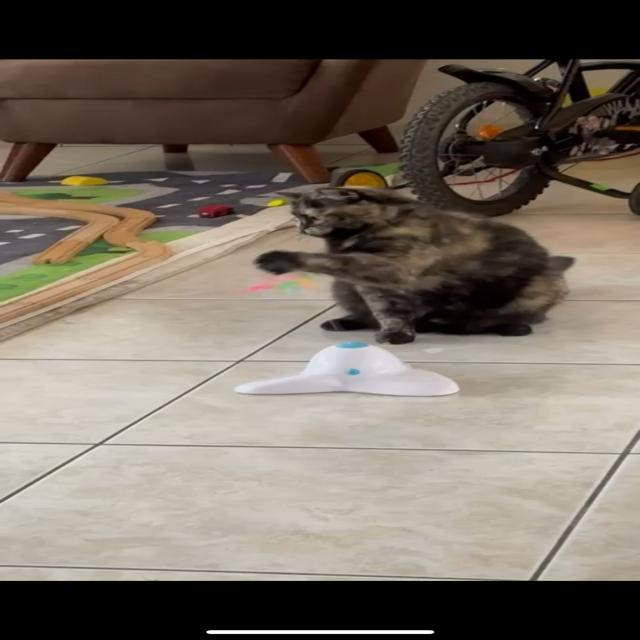authorized: (253, 184, 575, 344)
